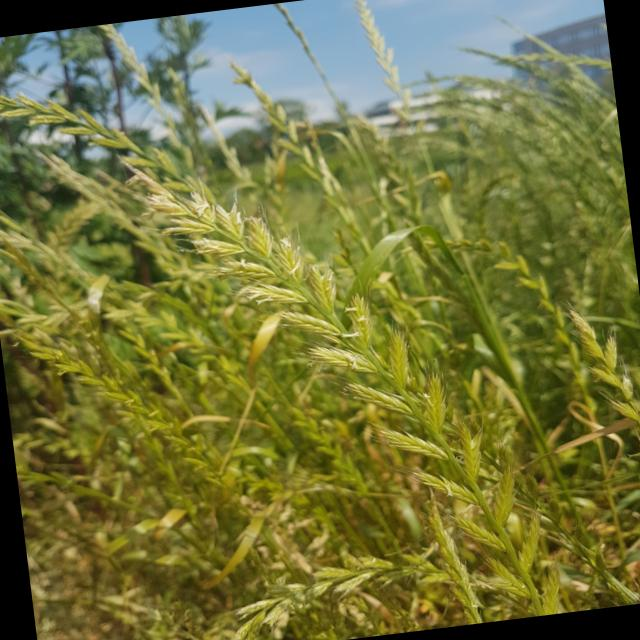Lolium: (154, 157, 548, 640), (225, 524, 601, 640), (28, 322, 218, 498), (0, 69, 200, 216), (232, 48, 362, 244), (566, 298, 640, 470), (286, 399, 372, 507), (352, 0, 416, 111), (518, 254, 578, 362)
